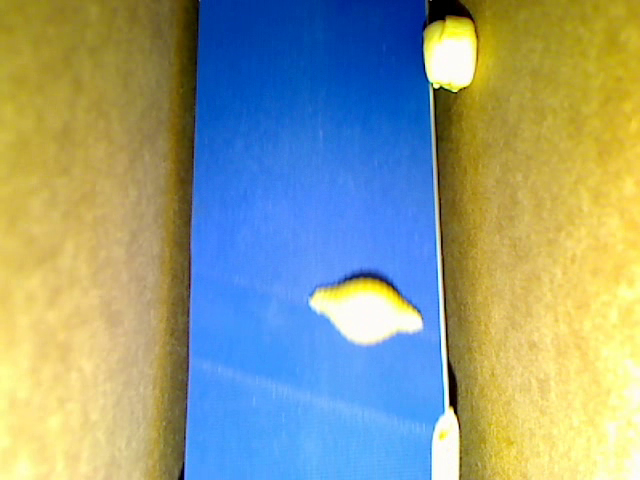penne: (430, 406, 460, 479)
shell: (307, 275, 421, 348)
